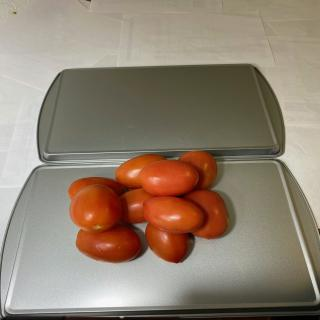Chilli: (68, 150, 230, 264)
Tomato: (76, 224, 141, 264), (69, 184, 122, 233), (182, 189, 230, 240), (143, 196, 204, 233), (139, 160, 199, 196), (115, 154, 167, 189), (145, 224, 190, 264), (178, 150, 218, 190), (119, 188, 156, 223), (68, 177, 124, 200)
